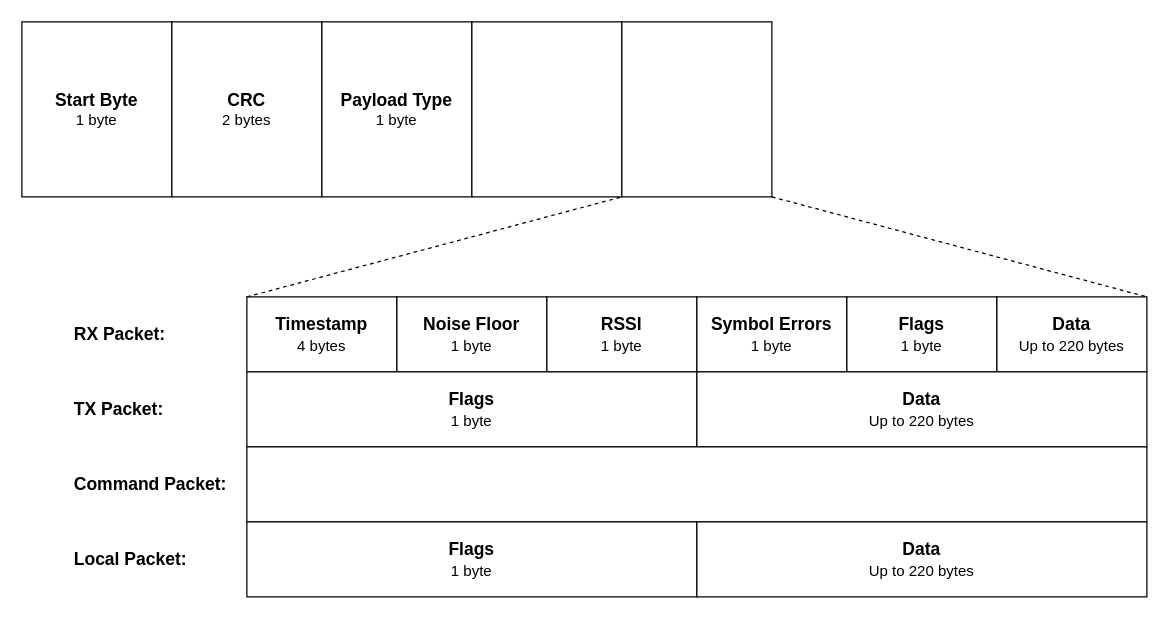
The diagram is 1170 pixels wide and 619 high, and some of its shapes have lost their labels. The shapes that lost their labels are listed below. From the top down, each one's box as (x1, y1, x2, y2) in pixels, then its label:
(471, 21, 622, 197): Payload Length 1 byte
(621, 21, 772, 197): Payload Up to 228 bytes
(246, 446, 1147, 522): Command Up to 220 bytes
